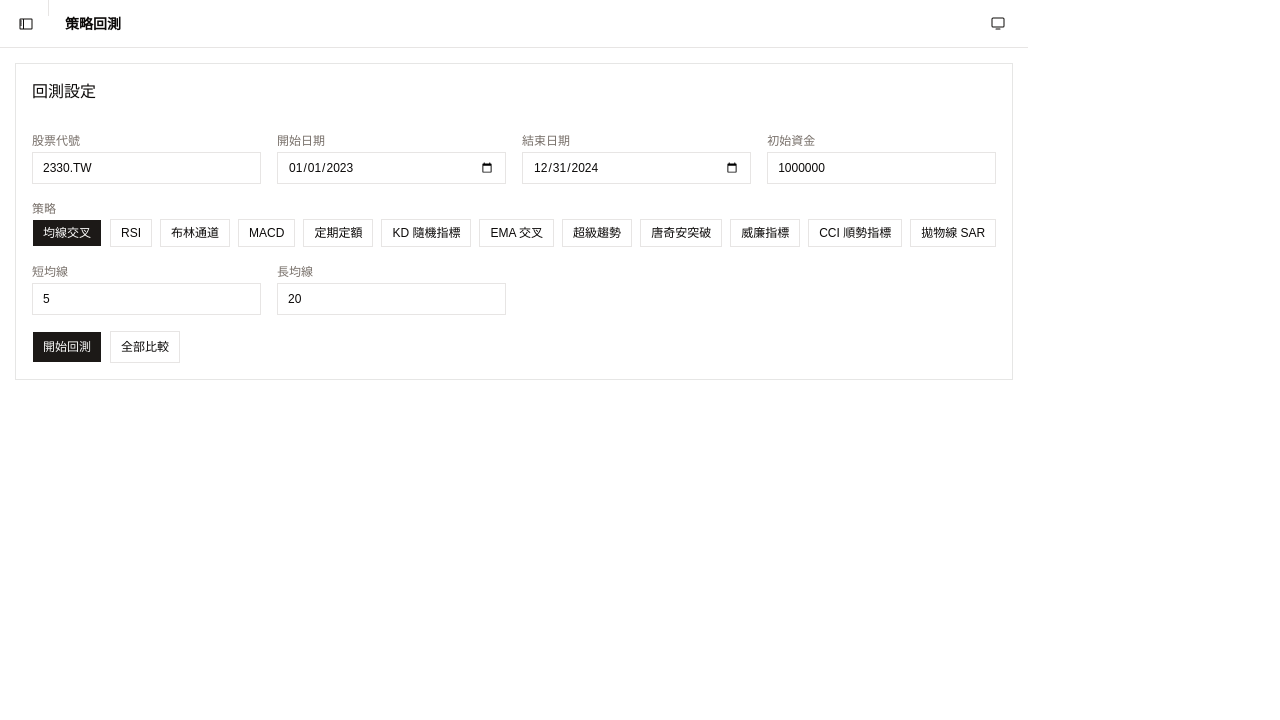
Test: Backtest Page › shows trade history table after successful backtest
The image size is (1280, 720).
What coordinates should you click on to do the following:
click the button "開始回測"
I would click on:
 (67, 346)
Its box is [32,330,102,362].
(page scrolled)
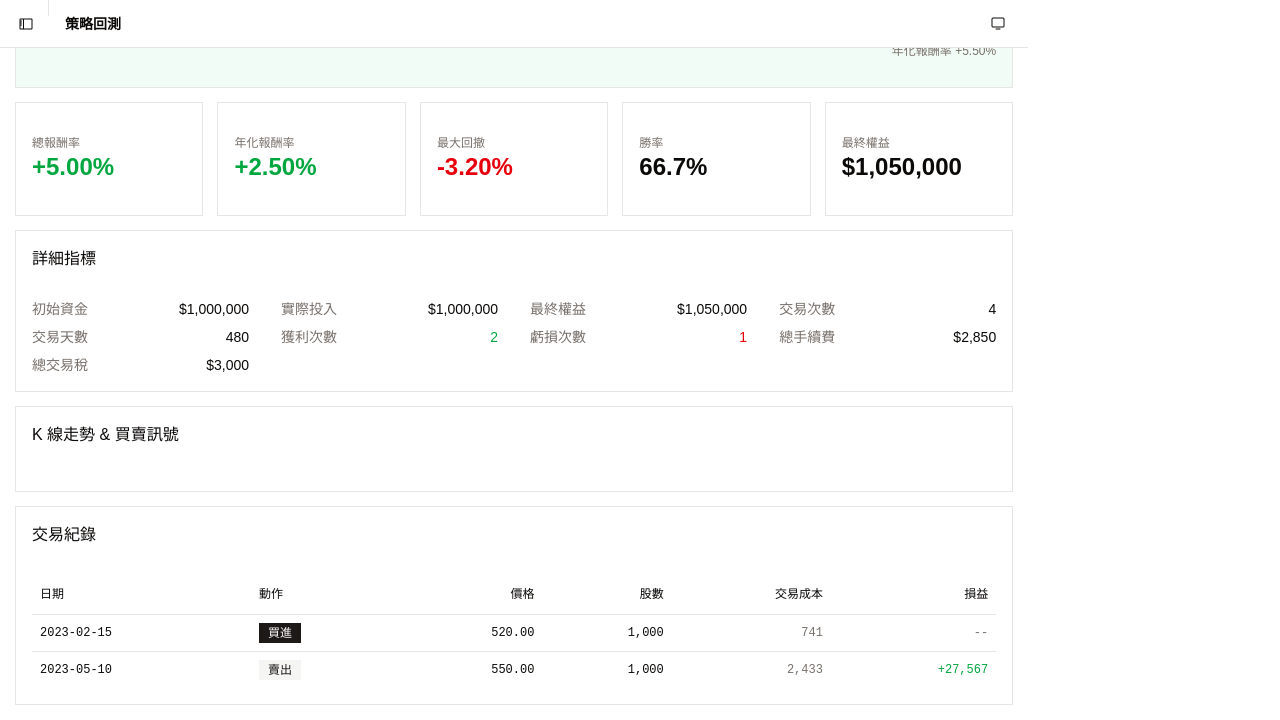
Check: the text "交易紀錄" is shown, box [32,526,96,542]
Check: the text "2023-02-15" is shown, box [32,614,251,652]
Check: the text "2023-05-10" is shown, box [32,652,251,688]
